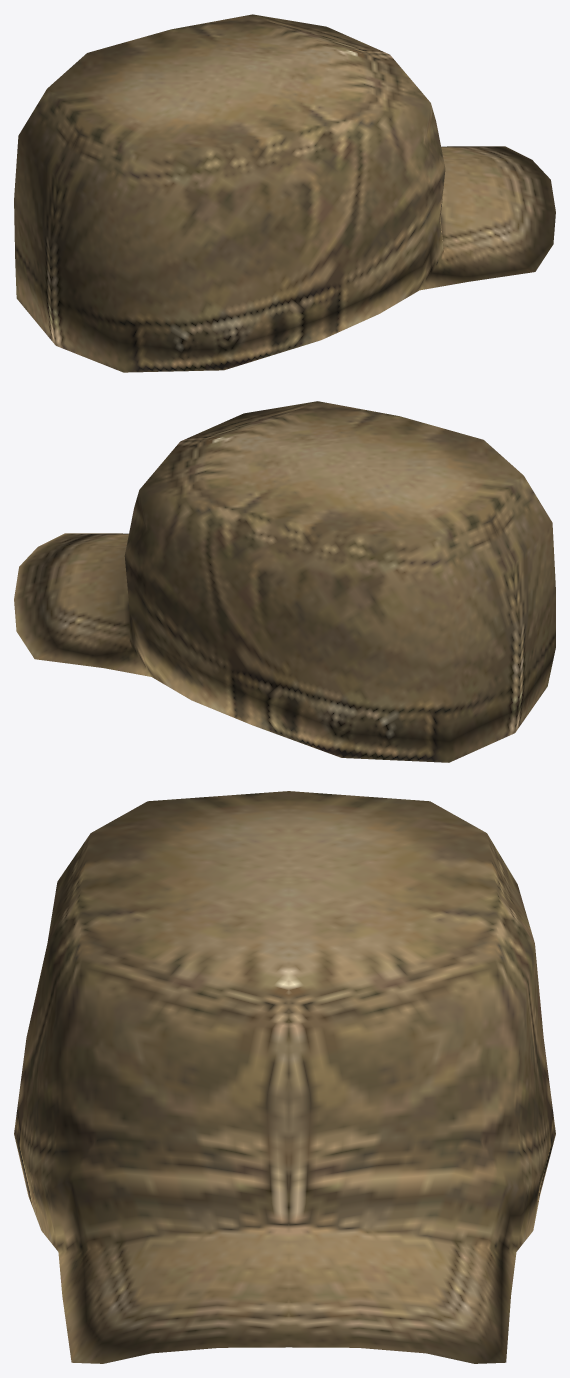
File: hat_0400049.FBX
3 views of the same model, one above another, from view 1: azimuth 30°, elevation 25°; view 2: azimuth 150°, elevation 25°; view 3: azimuth 270°, elevation 25° (orthographic). The views are drawn at different scales.
Visible parts, largest first — view 1: hat_0400049; view 2: hat_0400049; view 3: hat_0400049.
Boxes of the visible parts, box(x1,y1,x2,y2) form: hat_0400049: box(14, 14, 555, 372); hat_0400049: box(14, 401, 555, 762); hat_0400049: box(14, 791, 555, 1363).
Bounding box in the file's own units: 36.82 × 16.9 × 23.54.
